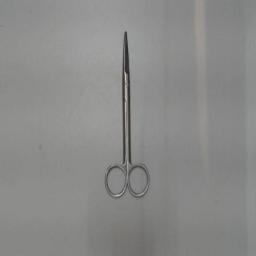Curved Mayo Scissors: (101, 27, 153, 201)
